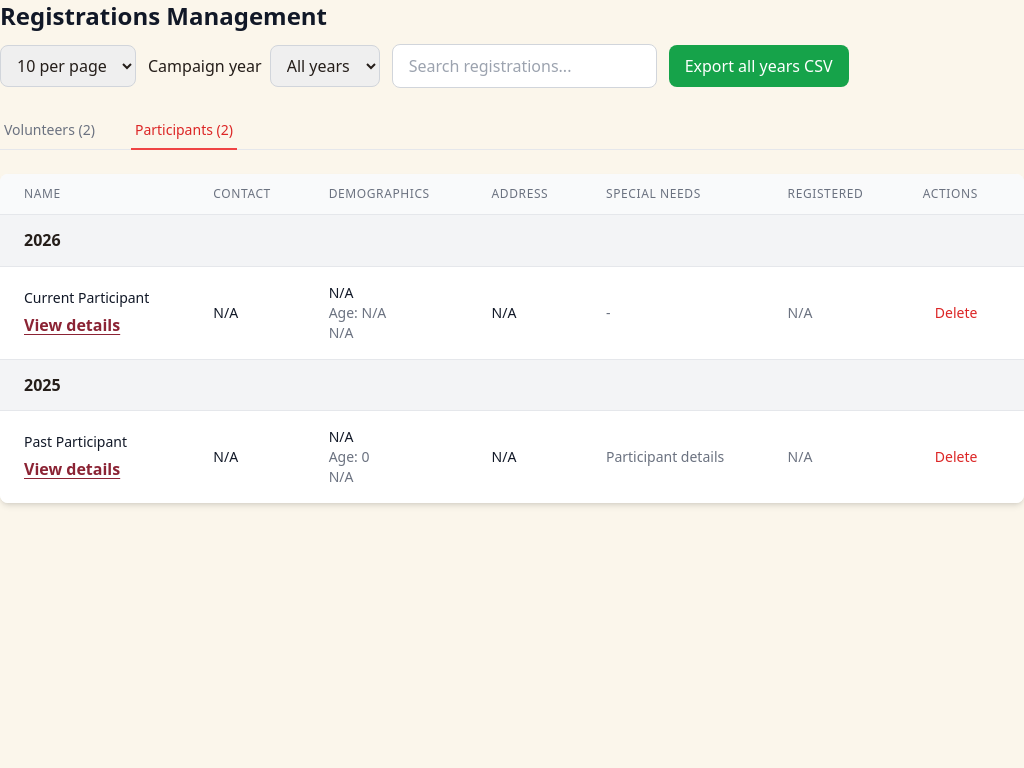
it: filters both lists by year and opens the selected registration details
Expected: the button with aria-label "View details for Current Participant" is shown, [24,312,120,338]
Click the button "Volunteers (2)" at (49, 131), box [0,112,99,150]
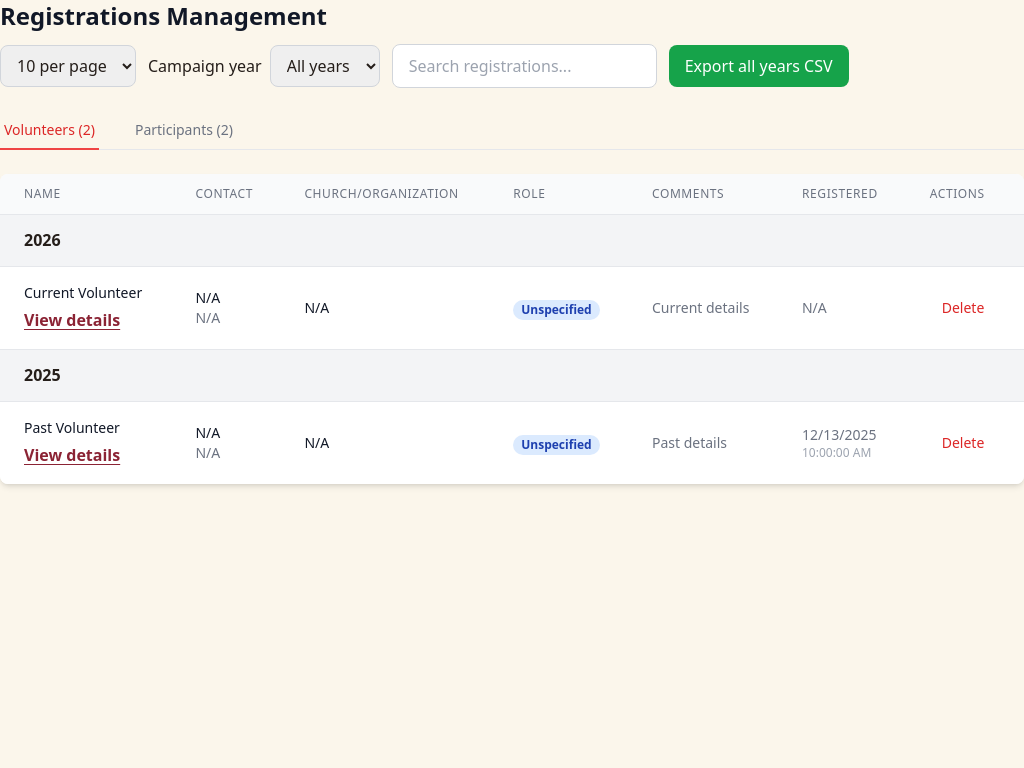
Select "2025" in the dropdown labelled "Campaign year" at (325, 66), box [270,45,380,87]
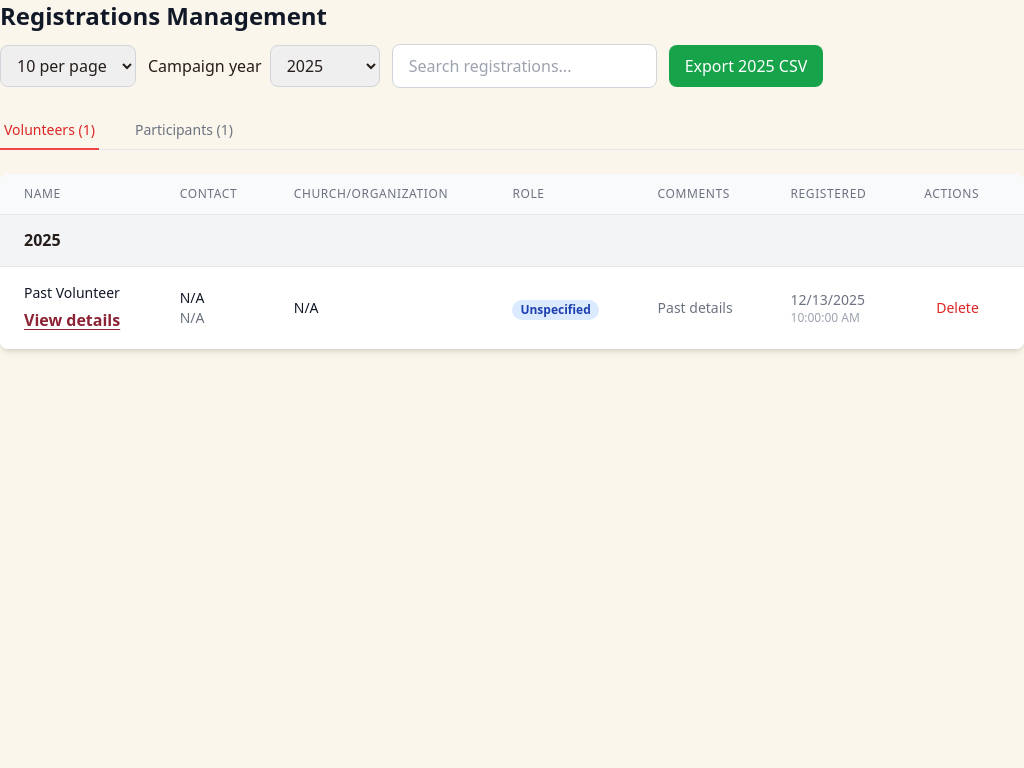
Click the button with aria-label "View details for Past Volunteer" at (72, 320), box [24,307,120,333]
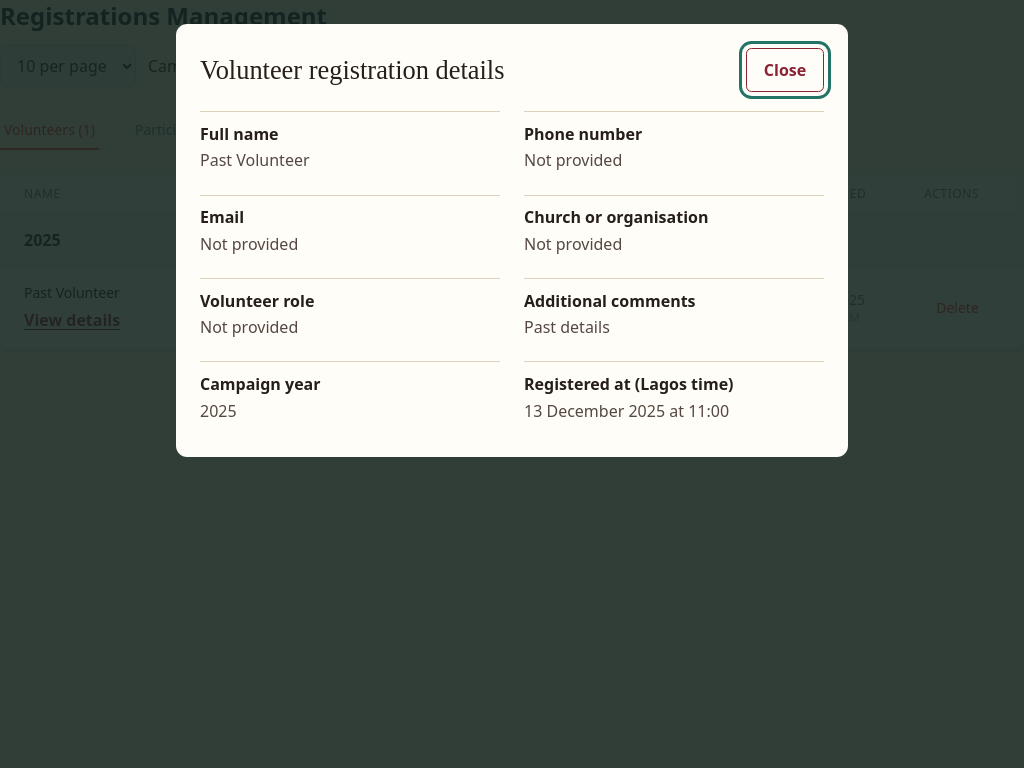
Expected: the text "Past details" is shown, [524,316,610,338]
Click the button "Close" at (785, 70), box [746,48,824,92]
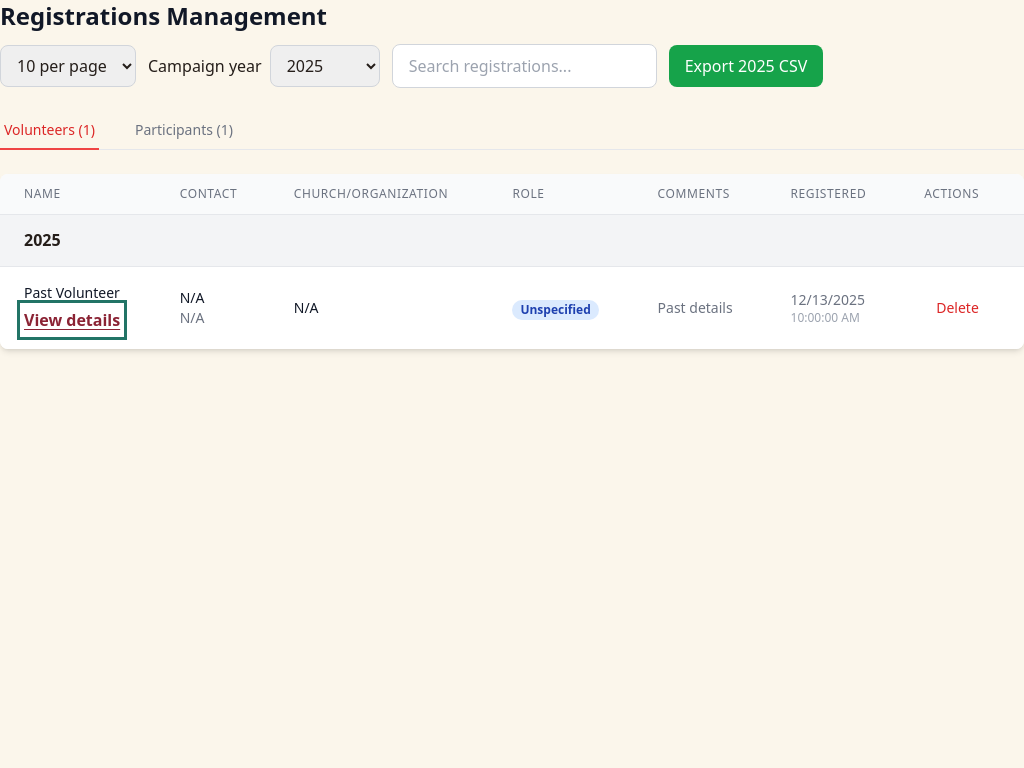
Click the button "Participants (1)" at (184, 131), box [131,112,237,150]
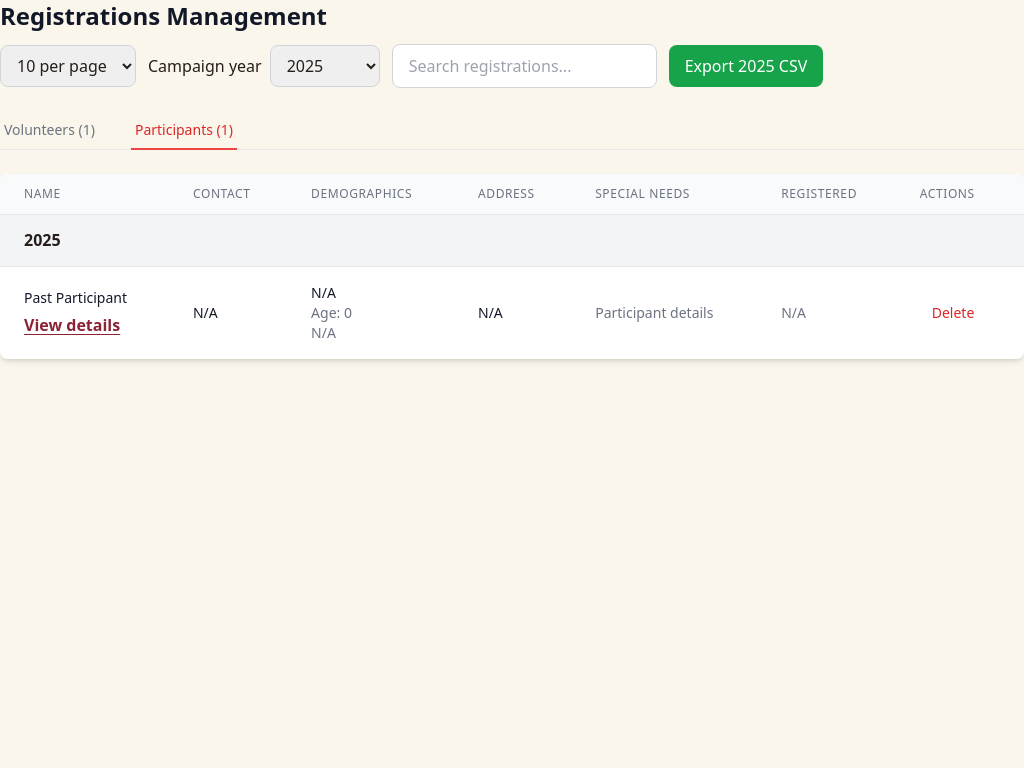
Click the button with aria-label "View details for Past Participant" at (72, 325), box [24,312,120,338]
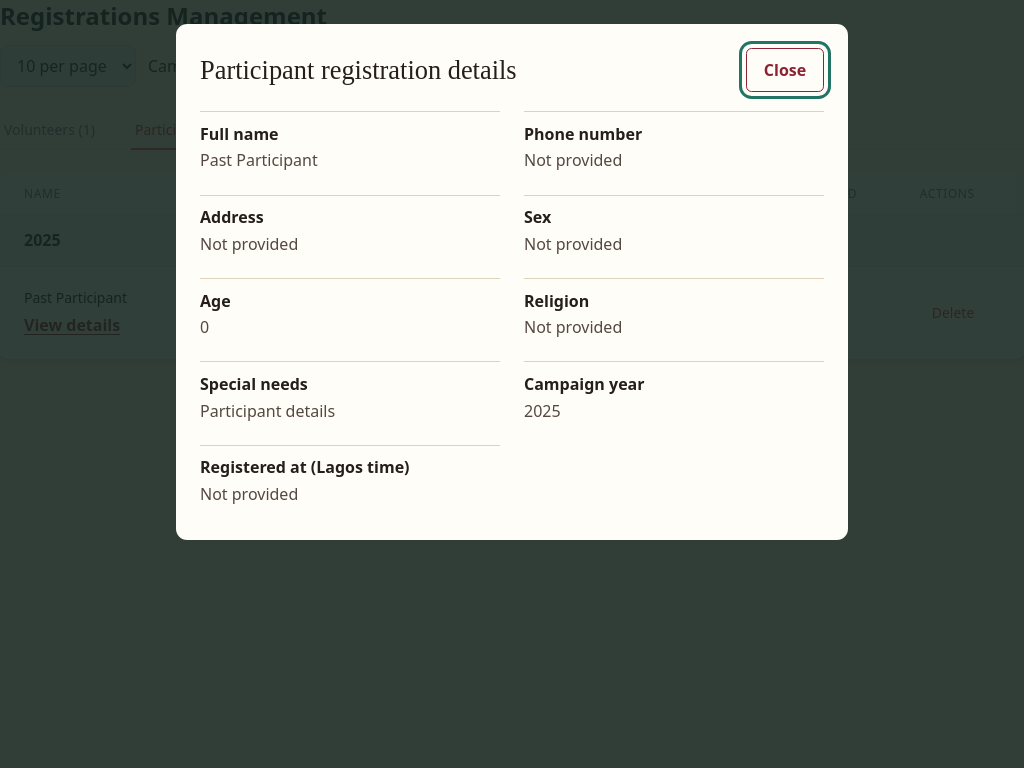
Expected: the text "Participant details" is shown, [200,400,335,422]
Expected: the text "0" is shown, [200,316,209,338]
